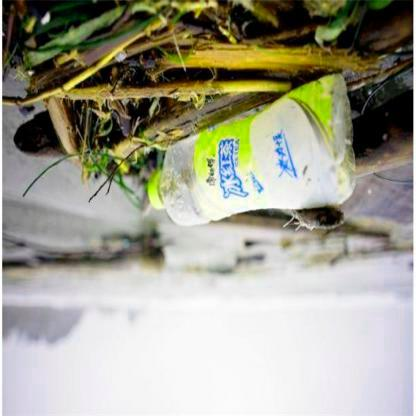Plastic: (144, 71, 353, 230)
